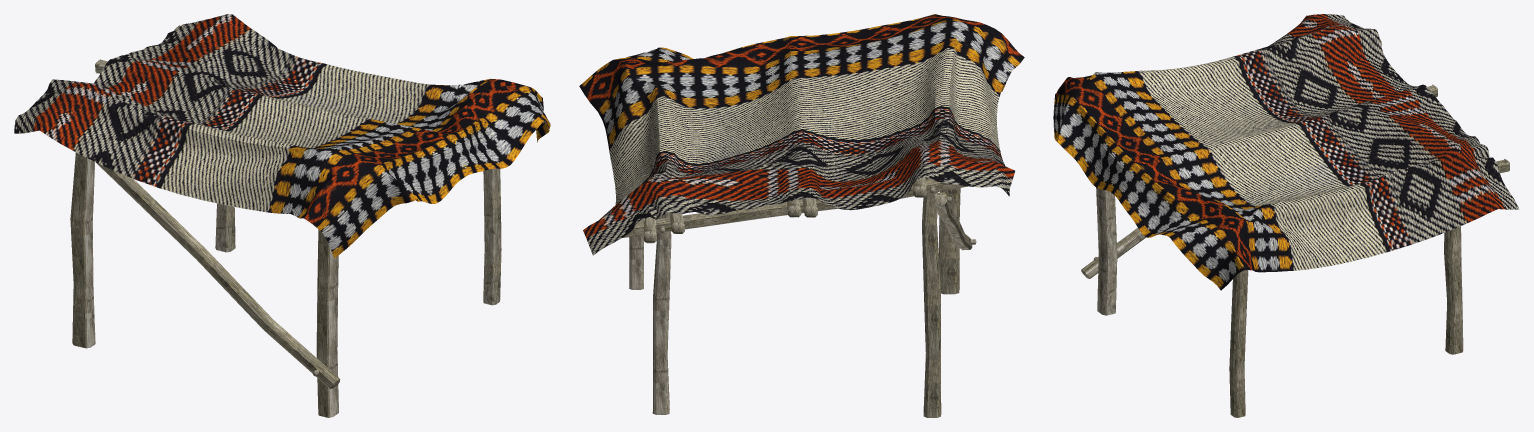
Rendered from tent2.gltf.
3 views of the same model, side by side, from view 1: azimuth 30°, elevation 25°; view 2: azimuth 150°, elevation 25°; view 3: azimuth 270°, elevation 25° (orthographic). The views are drawn at different scales.
Parts seen in each view (by area): view 1: tent2; view 2: tent2; view 3: tent2.
Boxes of the visible parts, x1,y1,x2,y2 form: tent2: [14, 14, 550, 417]; tent2: [579, 14, 1024, 417]; tent2: [1053, 14, 1519, 417].
Size of the model in its own units: 5.71 by 3.03 by 5.4.
Materials: 2 (2 with a texture image).
